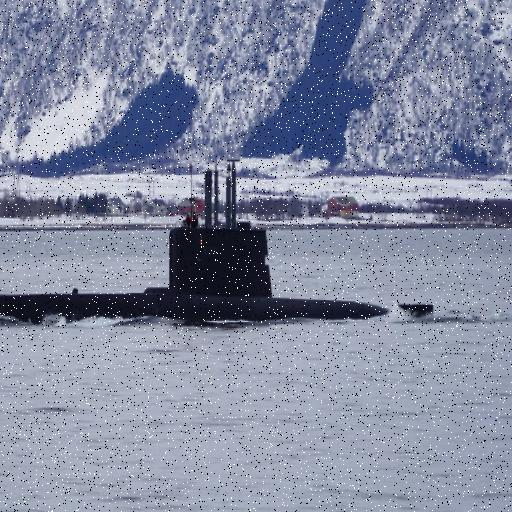submarine: (1, 152, 446, 324)
